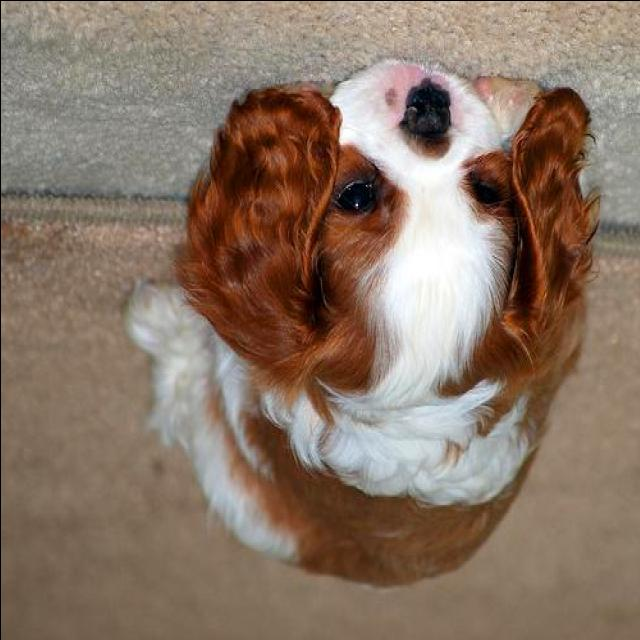blenheim_spaniel: (119, 56, 604, 594)
